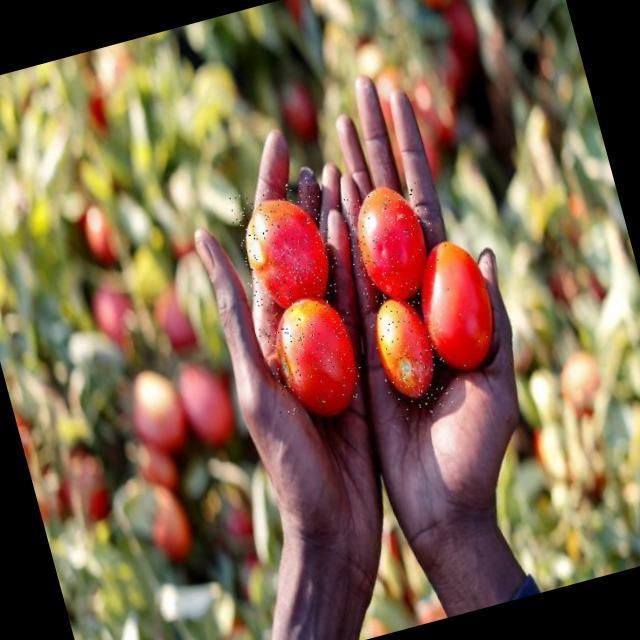Tomate: (396, 221, 514, 394), (224, 175, 344, 314), (336, 179, 447, 311), (254, 294, 370, 418), (362, 279, 456, 422)
